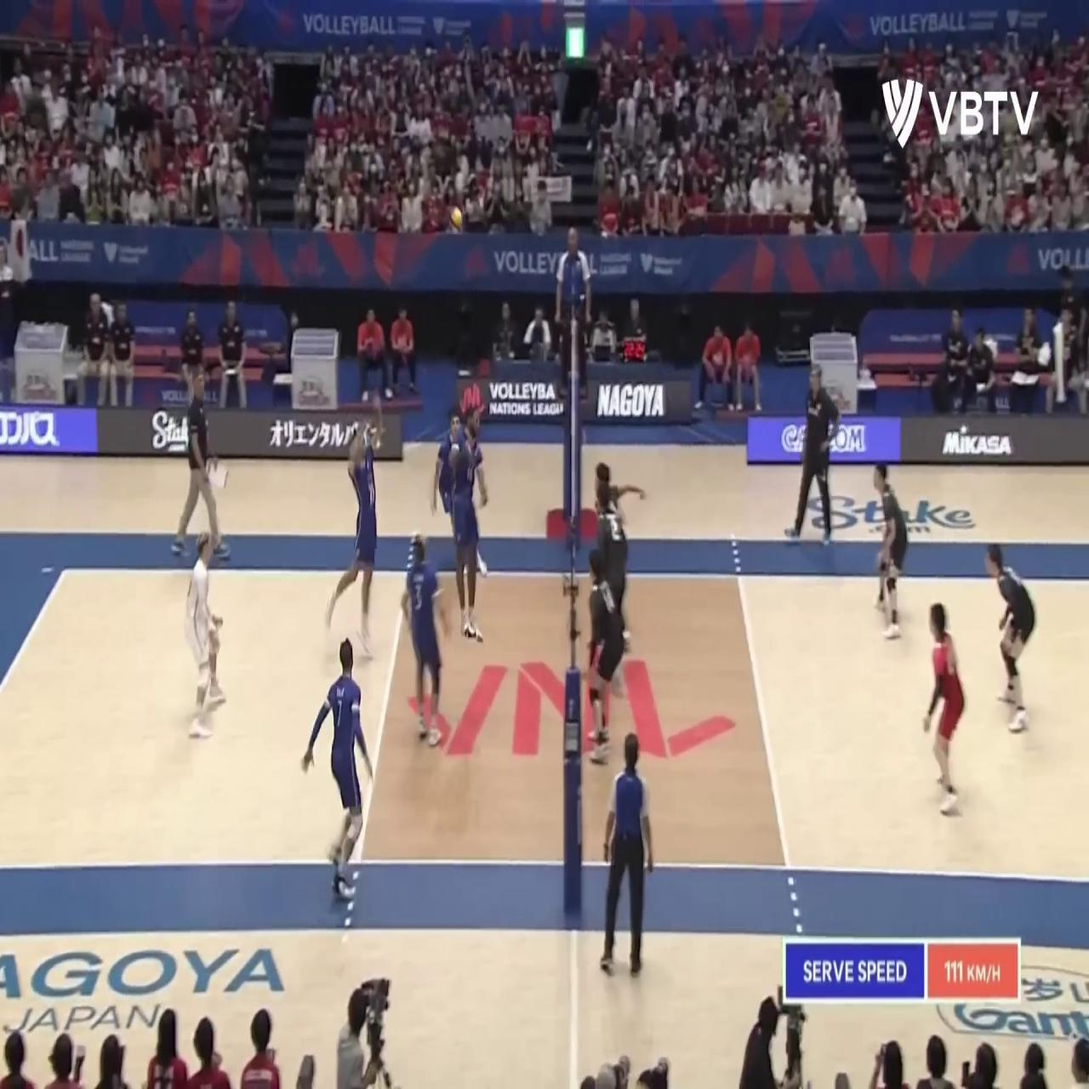ball: (449, 208, 463, 232)
